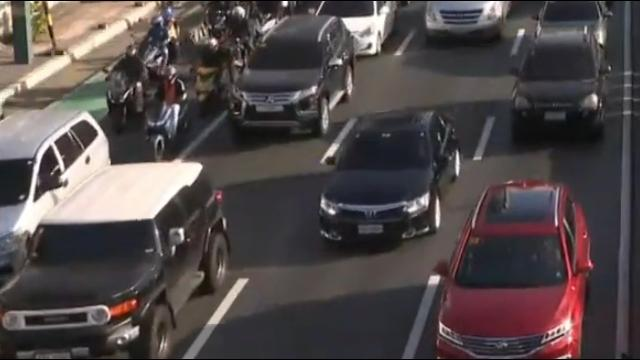car: (0, 163, 231, 360), (434, 178, 593, 360), (315, 107, 464, 249), (0, 109, 111, 275), (229, 13, 356, 138), (511, 38, 609, 137), (310, 0, 401, 59), (531, 2, 615, 54), (424, 1, 512, 45)
motorcycle: (103, 44, 149, 141), (147, 63, 189, 163), (136, 8, 180, 81), (193, 38, 232, 117), (225, 4, 253, 86), (203, 0, 227, 49)
